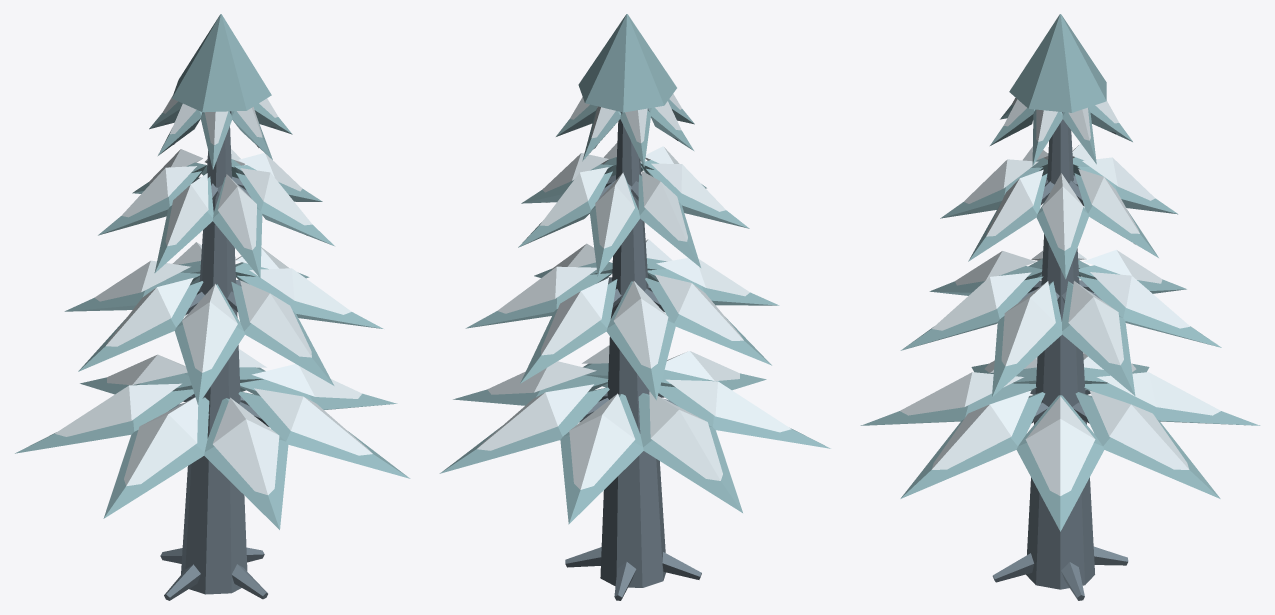
The model's file is arvore_jovem.glb.
The picture shows the model from 3 angles, left to right: view 1: azimuth 30°, elevation 25°; view 2: azimuth 150°, elevation 25°; view 3: azimuth 270°, elevation 25°; orthographic projection.
Parts seen in each view (by area): view 1: neve_arvore_jovem; view 2: neve_arvore_jovem; view 3: neve_arvore_jovem.
Part boxes in pixels (x1,y1,x2,y2): neve_arvore_jovem: (15, 14, 410, 600); neve_arvore_jovem: (439, 14, 830, 600); neve_arvore_jovem: (860, 14, 1260, 600).
Bounding box in the file's own units: 1.01 × 1.61 × 1.04.
